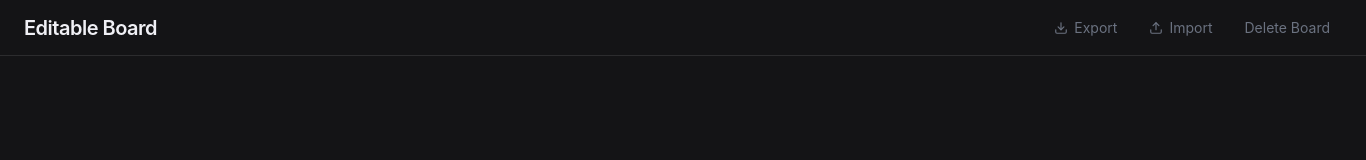
Test: Header › switches to edit mode when clicking title
Click the button "Editable Board".
click(91, 28)  # box [24,14,157,42]
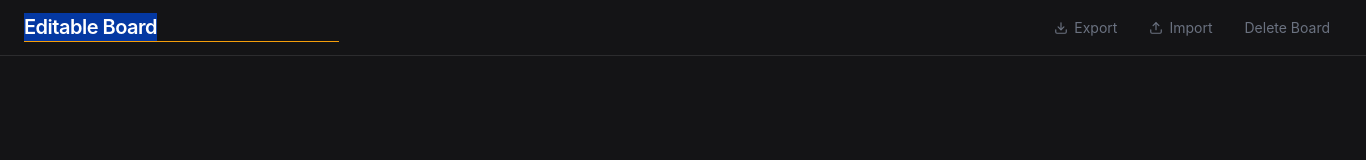
Expected: the field is shown, [24,13,339,42]
